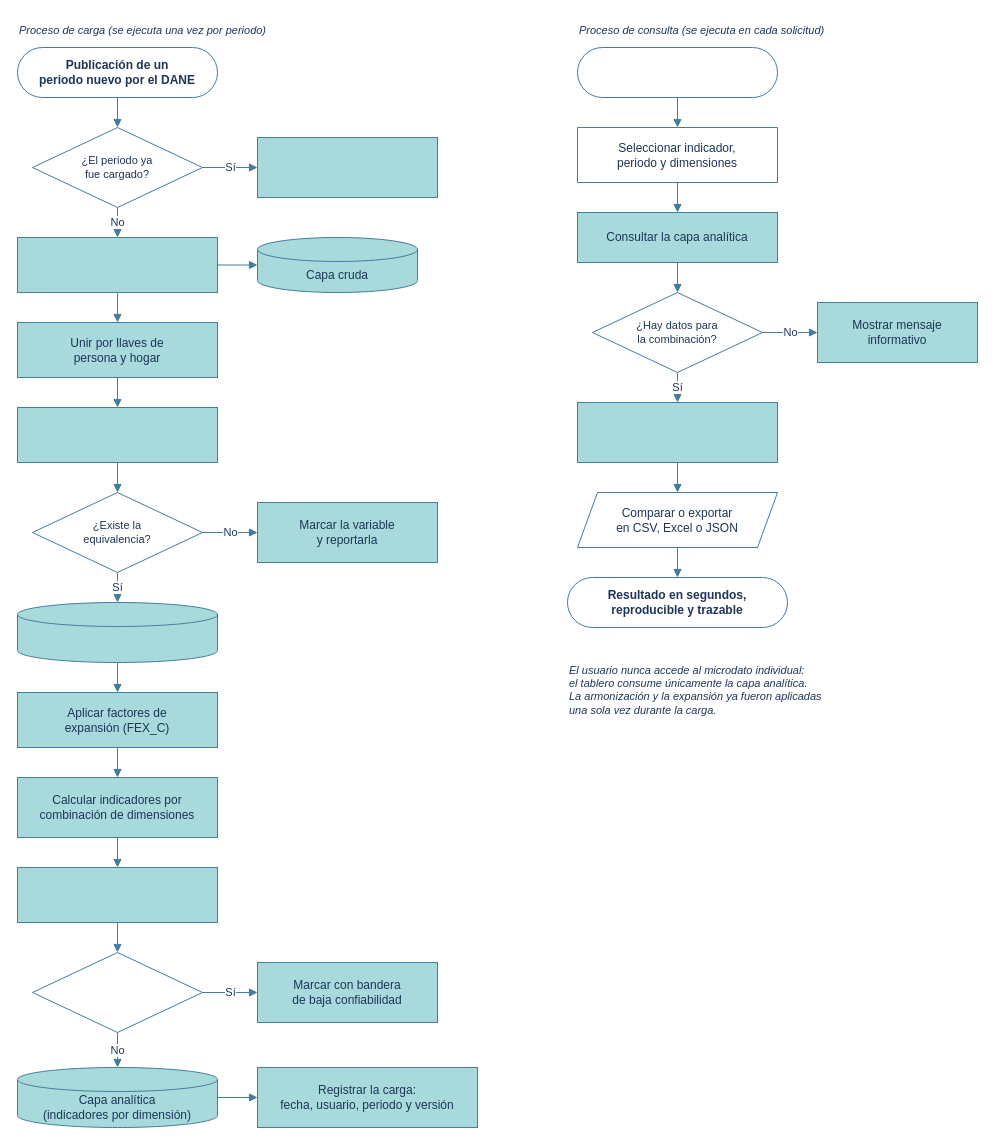
Some shapes in this 995 by 1145 pixel diagram are drawn without their labels. Here are the shapes that lost their labels. From the top down, the centre of each, then its label:
At [677,72]: "El investigador abre el tablero".
At [347,167]: "Detener la carga y registrar el evento".
At [117,264]: "Cargar los módulos sin transformar".
At [117,434]: "Armonizar variables contra el catálogo maestro".
At [677,432]: "Mostrar el indicador con su bandera de calidad".
At [117,632]: "Capa intermedia (microdato armonizado)".
At [117,894]: "Calcular el coeficiente de variación".
At [117,992]: "¿Supera el umbral?".
